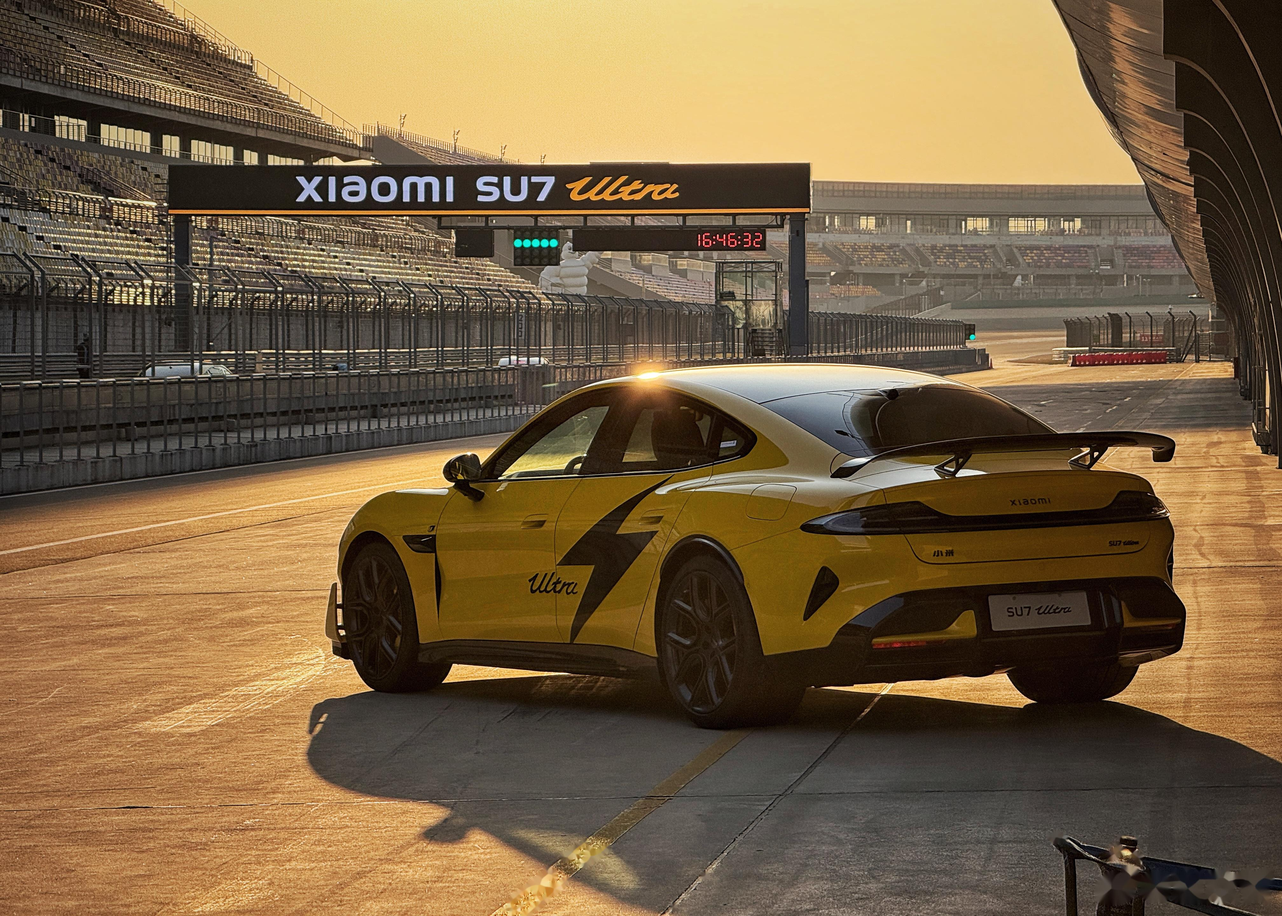su7: (330, 367, 1196, 726)
